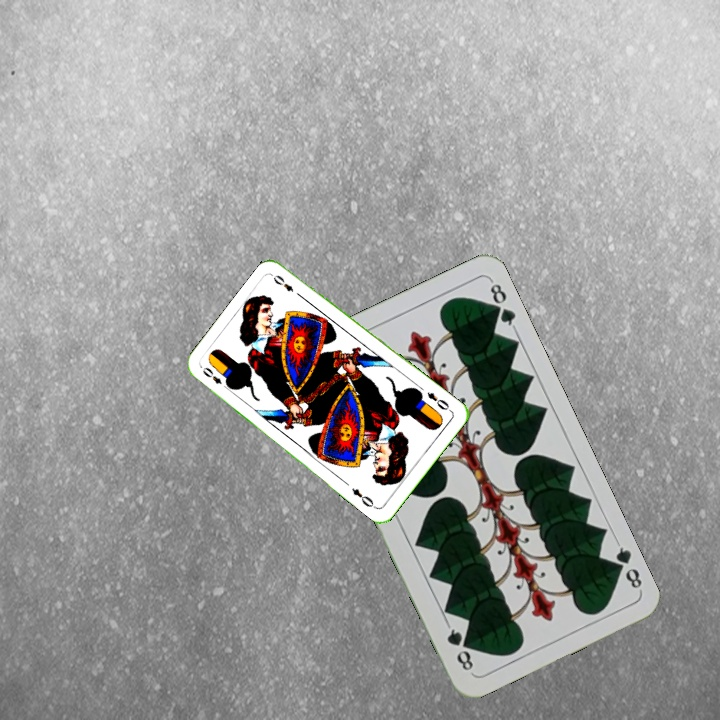EO: (199, 363, 233, 393), (423, 388, 454, 414)
G8: (606, 537, 645, 593)
